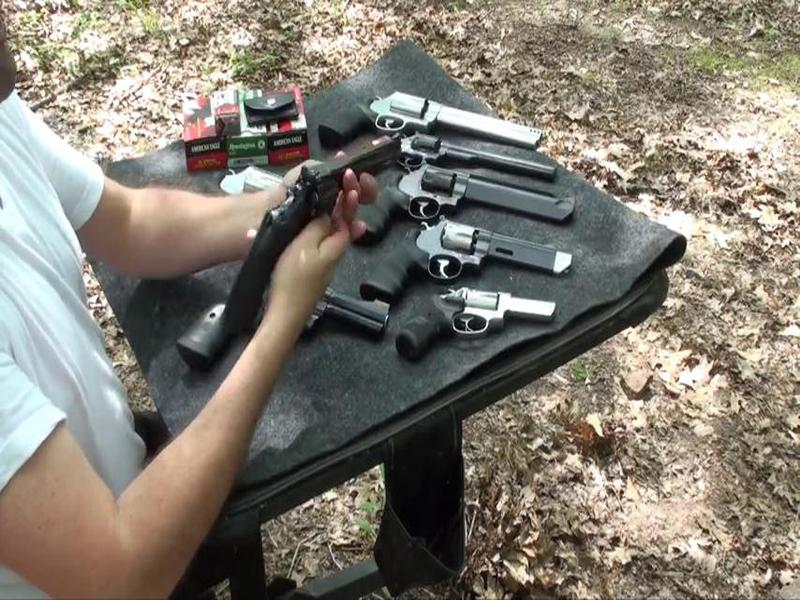Revolver: (216, 126, 415, 330)
